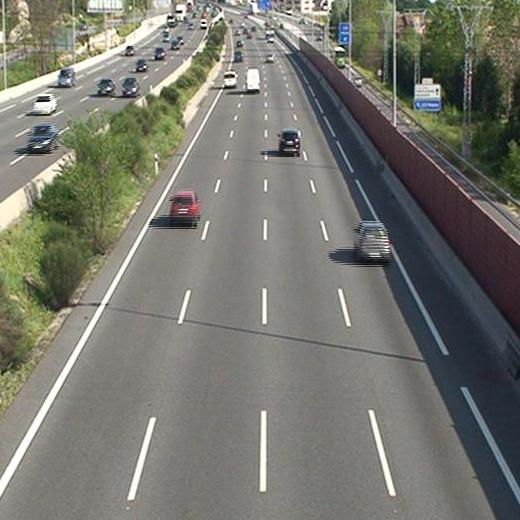car: (356, 224, 390, 259), (170, 191, 199, 222), (279, 129, 300, 151), (266, 53, 274, 62)
van: (245, 69, 260, 92), (224, 72, 237, 87), (234, 50, 242, 61)
